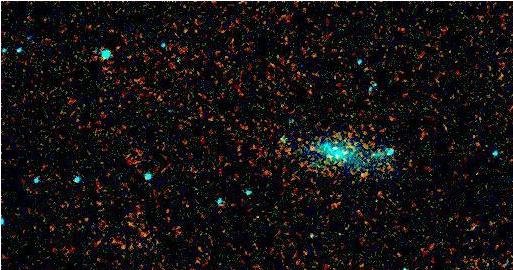star: (343, 160, 373, 190)
